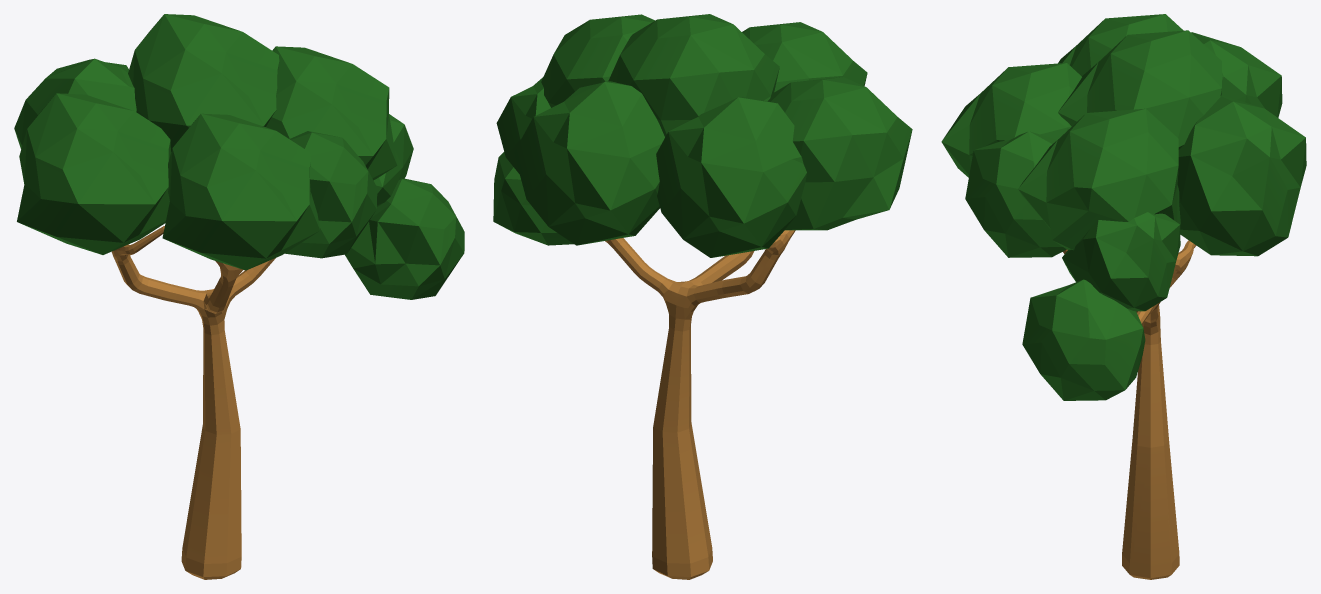
File: tree.142_lev4.glb
3 views of the same model, side by side, from view 1: azimuth 30°, elevation 25°; view 2: azimuth 150°, elevation 25°; view 3: azimuth 270°, elevation 25° (orthographic). The views are drawn at different scales.
Visible parts, largest first — view 1: tree.142_lev4; view 2: tree.142_lev4; view 3: tree.142_lev4.
Part boxes in pixels (x1=…): tree.142_lev4: x1=14, y1=14, x2=464, y2=579; tree.142_lev4: x1=493, y1=14, x2=912, y2=579; tree.142_lev4: x1=941, y1=14, x2=1306, y2=579.
Size of the model in its own units: 0.7825 by 1 by 0.6278.
